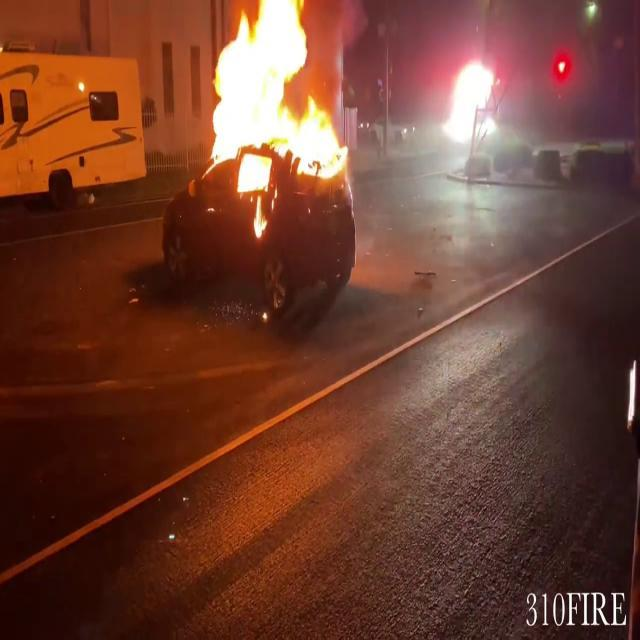Fire: (200, 0, 351, 205)
